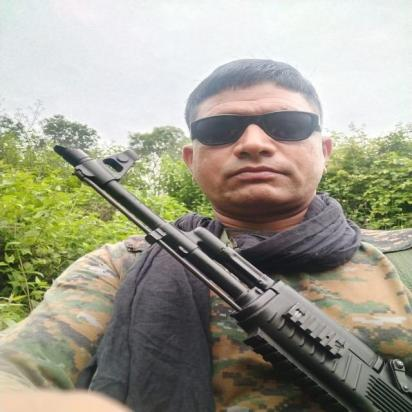Gun: (51, 144, 412, 412)
